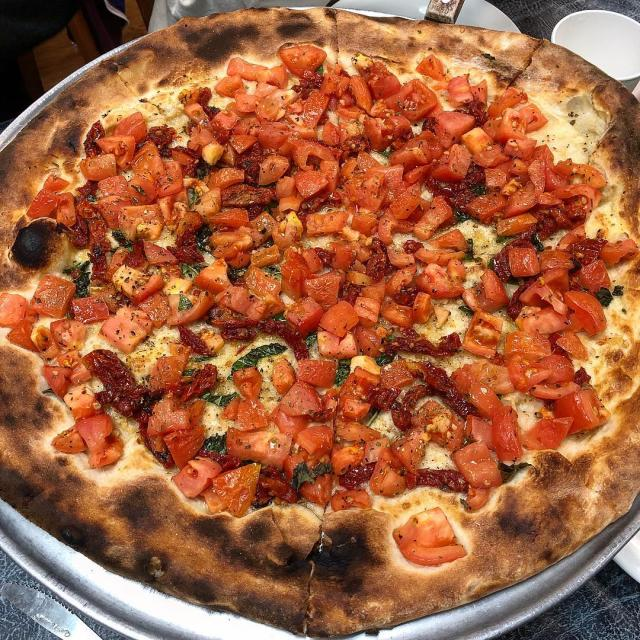basil: (227, 338, 287, 379), (62, 257, 97, 305), (288, 460, 332, 489), (101, 221, 135, 256), (193, 385, 237, 410), (175, 253, 211, 281), (197, 432, 230, 457), (192, 223, 216, 253), (176, 186, 201, 212), (335, 357, 353, 387), (170, 294, 194, 313), (373, 349, 393, 369), (300, 330, 318, 350)
pizza: (0, 9, 640, 635)
tomatoes: (146, 344, 266, 519), (265, 357, 377, 507), (369, 352, 476, 499), (452, 305, 602, 399), (355, 98, 453, 240), (182, 89, 274, 231), (457, 237, 640, 307), (452, 160, 610, 240), (82, 110, 186, 228), (274, 85, 353, 231), (465, 377, 609, 453), (0, 283, 93, 385), (38, 364, 126, 468), (233, 234, 360, 298), (450, 78, 545, 159), (66, 275, 162, 348), (360, 242, 467, 307), (357, 304, 462, 364), (261, 295, 358, 356), (86, 226, 174, 293), (444, 423, 503, 512), (163, 293, 261, 346), (394, 506, 466, 574), (79, 348, 143, 420), (223, 46, 329, 88), (58, 190, 116, 252), (176, 231, 233, 291), (26, 166, 82, 226), (334, 47, 396, 98), (403, 54, 451, 86)
